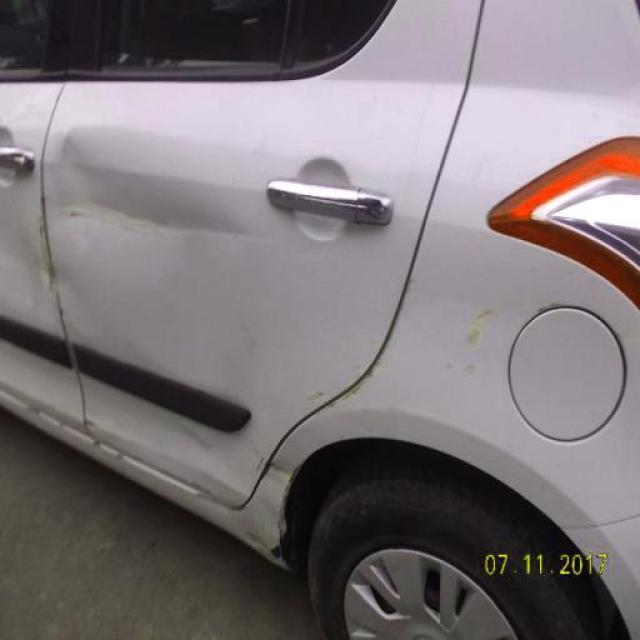Car-Damage: (54, 120, 276, 250), (301, 272, 418, 422), (236, 446, 303, 566), (26, 407, 131, 463), (161, 417, 234, 464), (455, 301, 494, 386), (34, 202, 66, 303)
